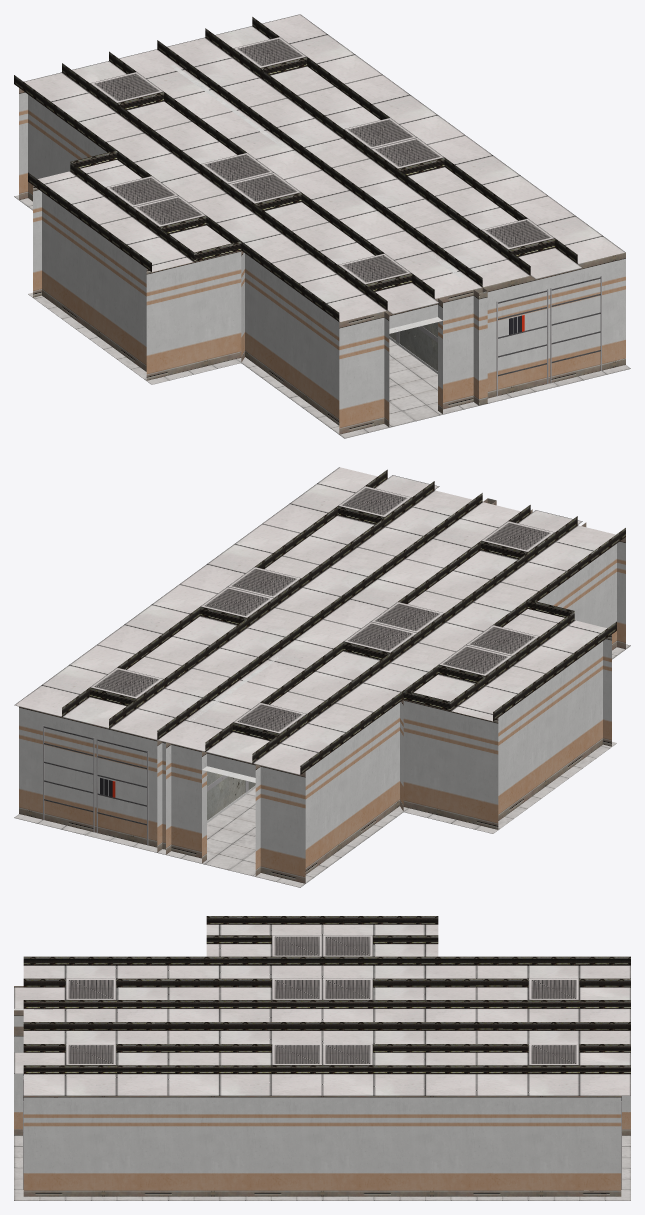
The model's file is OZ_room2_offices4.obj.
The picture shows the model from 3 angles, top to bottom: view 1: azimuth 30°, elevation 25°; view 2: azimuth 150°, elevation 25°; view 3: azimuth 270°, elevation 25°; orthographic projection. The views are drawn at different scales.
Visible parts, largest first — view 1: room2offices5_opt; view 2: room2offices5_opt; view 3: room2offices5_opt.
Part boxes in pixels (x1,y1,x2,y2): room2offices5_opt: [14, 14, 630, 438]; room2offices5_opt: [14, 467, 630, 887]; room2offices5_opt: [14, 916, 630, 1200].
Size of the model in its own units: 13.44 by 4.17 by 20.48.
14 materials, 13 textured.
